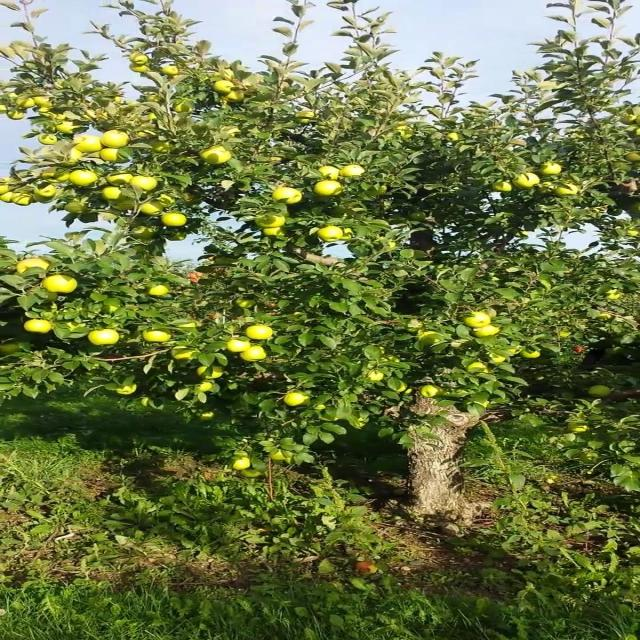apple: (102, 189, 136, 210), (42, 274, 78, 292), (200, 145, 231, 164), (271, 186, 302, 204), (16, 258, 51, 273), (100, 130, 129, 148), (73, 134, 102, 152), (253, 214, 287, 229), (89, 329, 120, 345), (511, 172, 540, 189), (462, 311, 491, 328), (316, 225, 344, 242), (69, 170, 98, 186), (313, 180, 342, 196), (244, 324, 273, 340), (160, 212, 187, 228), (131, 175, 158, 191), (24, 319, 53, 333), (40, 168, 69, 182), (282, 391, 309, 406), (240, 346, 267, 361), (111, 196, 138, 211), (620, 105, 640, 125), (620, 106, 640, 125), (171, 346, 198, 360), (107, 171, 133, 185), (418, 331, 444, 345), (473, 325, 500, 338), (33, 184, 58, 198), (131, 226, 156, 240), (142, 330, 171, 342), (393, 122, 413, 139), (196, 366, 222, 379), (138, 201, 164, 214), (227, 338, 251, 352), (56, 120, 80, 134), (553, 184, 580, 196), (64, 200, 87, 214), (587, 385, 611, 398), (318, 166, 340, 180), (211, 80, 233, 94), (540, 161, 562, 175), (296, 109, 316, 124), (129, 128, 156, 139), (64, 148, 82, 164), (420, 385, 442, 398), (100, 148, 122, 161), (151, 140, 173, 153), (102, 186, 122, 200), (393, 125, 413, 139), (84, 109, 109, 120), (340, 165, 364, 176), (491, 180, 513, 192), (147, 284, 169, 296), (567, 421, 589, 433), (11, 194, 33, 206), (129, 52, 149, 65), (16, 96, 36, 109), (220, 125, 240, 138), (536, 181, 556, 194), (156, 194, 176, 207), (213, 69, 236, 80), (116, 384, 138, 395), (467, 361, 489, 372), (231, 458, 251, 470), (0, 342, 20, 354), (224, 90, 244, 102), (364, 370, 384, 382), (176, 319, 200, 329), (156, 194, 176, 206), (160, 65, 180, 76), (31, 96, 51, 107), (407, 210, 427, 221), (33, 191, 53, 202), (604, 289, 624, 300), (102, 300, 120, 312), (34, 96, 51, 108), (236, 298, 256, 308), (67, 321, 87, 331), (142, 92, 162, 102), (38, 134, 56, 145), (240, 469, 262, 478), (269, 449, 287, 460), (393, 380, 409, 392), (78, 212, 97, 222), (169, 231, 187, 241), (407, 319, 422, 331), (173, 101, 189, 112), (262, 228, 284, 236), (624, 151, 640, 162), (0, 191, 16, 202), (196, 381, 213, 391), (7, 110, 24, 120), (340, 228, 353, 241), (504, 346, 522, 355), (520, 350, 540, 358), (129, 64, 149, 72), (444, 131, 460, 141), (491, 354, 507, 364), (627, 124, 640, 136), (198, 411, 216, 419), (538, 181, 556, 189), (38, 106, 51, 116), (558, 330, 571, 338), (140, 396, 149, 406)
